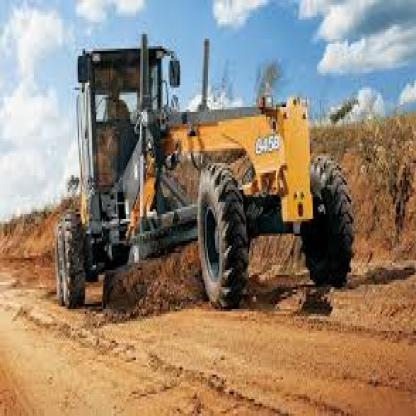bull_dozer/loader/grader: (27, 22, 356, 336)
